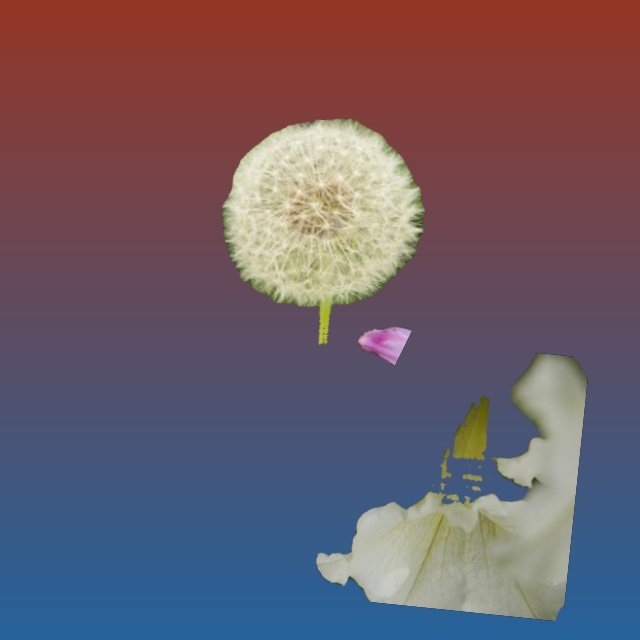cape flower: (358, 326, 411, 365)
dandelion: (222, 119, 424, 343)
petunia: (316, 353, 587, 620)
